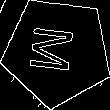M_E: (30, 26, 84, 78)
